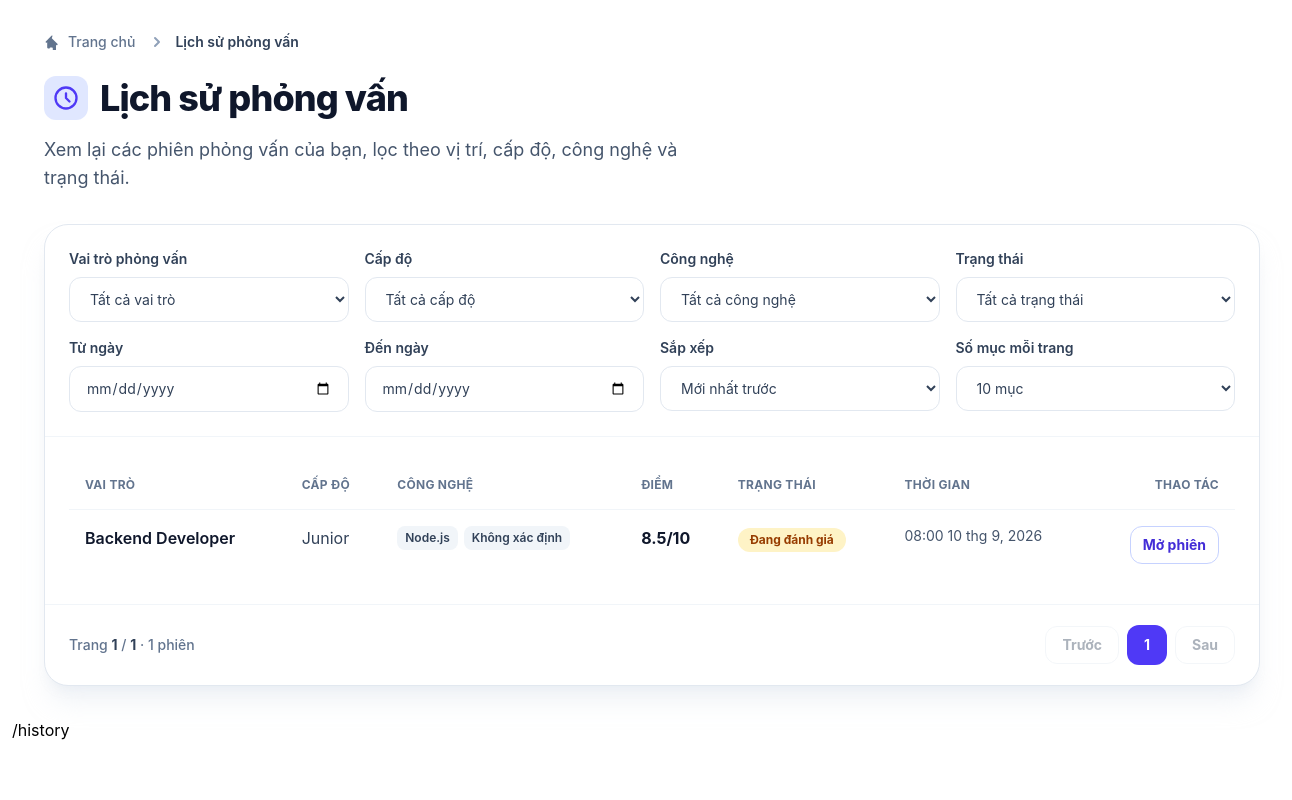
HistoryPage › navigates EVALUATING to its interview session using item.sessionId
Expected: the cell "Đang đánh giá" is shown, 722,510 -> 888,580
Click the button "Mở phiên" at (1174, 545), box 1130,526 -> 1219,564
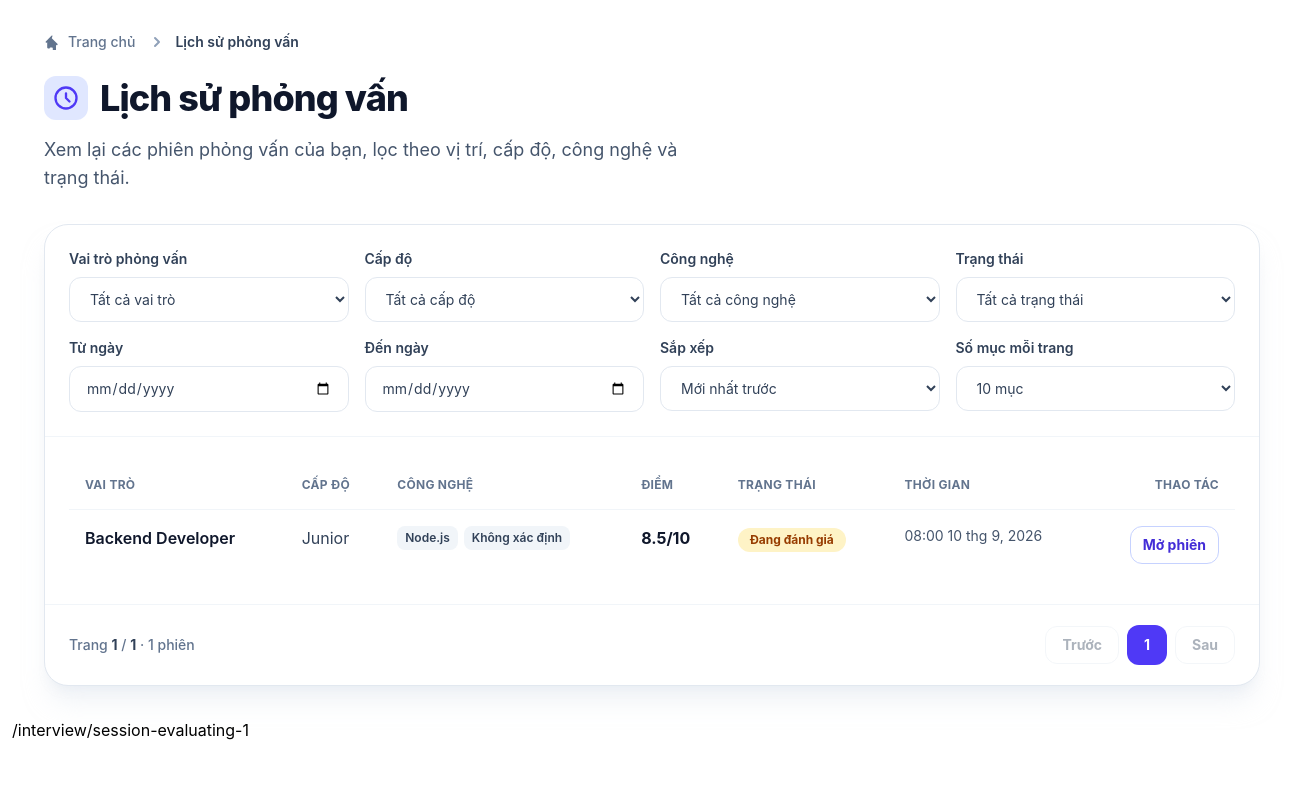
Expected: the text with test id "location" reads "/interview/session-evaluating-1", 12,720 -> 249,740
